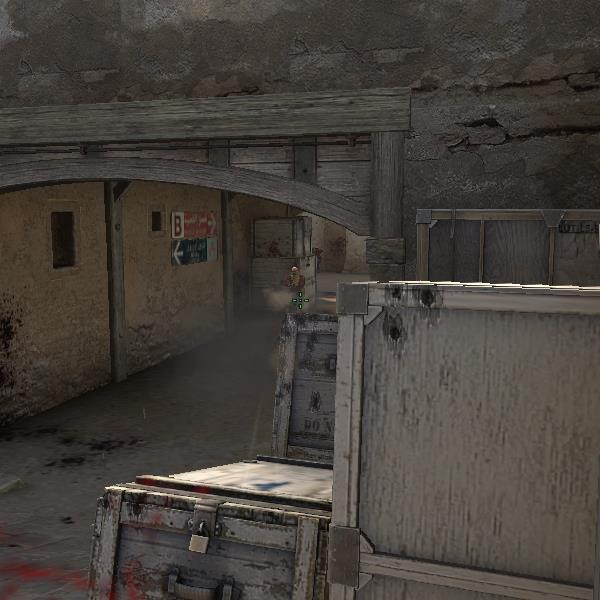t_body: (274, 263, 313, 313)
t_head: (287, 263, 301, 276)
